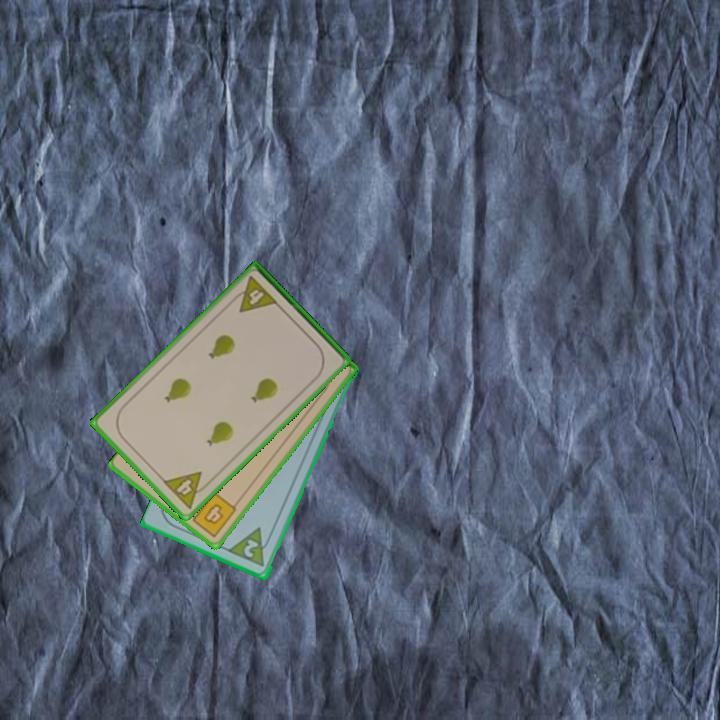2p: (226, 524, 276, 570)
4b: (184, 488, 240, 540)
4p: (159, 468, 214, 512), (227, 273, 281, 316)
